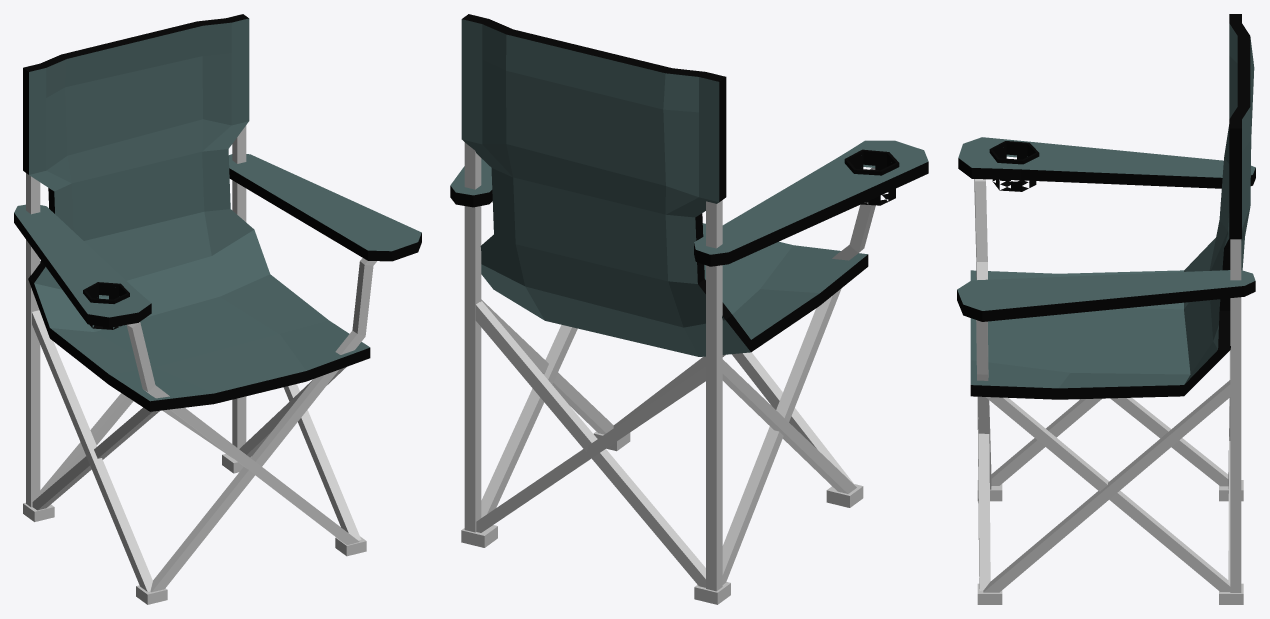
Rendered from campchair.fbx.
The picture shows the model from 3 angles, left to right: view 1: azimuth 30°, elevation 25°; view 2: azimuth 150°, elevation 25°; view 3: azimuth 270°, elevation 25°; orthographic projection. The views are drawn at different scales.
Parts seen in each view (by area): view 1: seat, legs, arms; view 2: seat, legs, arms; view 3: seat, legs, arms.
Boxes of the visible parts, <box> form: seat: <box>23,14,370,411</box>; legs: <box>23,125,376,604</box>; arms: <box>14,154,421,329</box>; seat: <box>461,14,868,356</box>; legs: <box>461,142,875,604</box>; arms: <box>450,140,928,266</box>; seat: <box>970,14,1254,399</box>; legs: <box>974,179,1243,604</box>; arms: <box>957,137,1255,321</box>.
Size of the model in its own units: 209 by 267 by 152.
